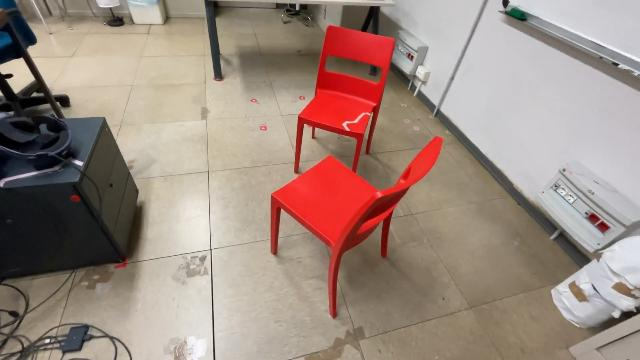Chair: (264, 133, 450, 324), (288, 24, 400, 180)
Lamp: (92, 1, 128, 31)
